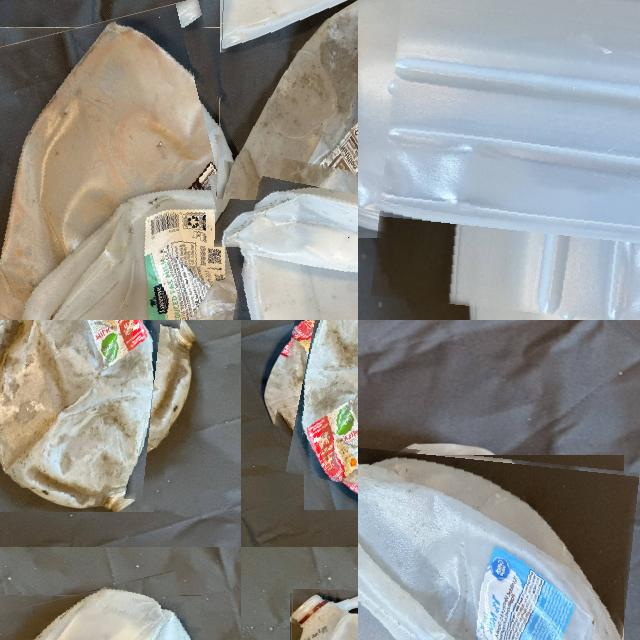milk-jug: (381, 0, 640, 320), (0, 11, 261, 320), (358, 440, 629, 640), (216, 0, 358, 251), (0, 196, 261, 320), (0, 320, 179, 496), (275, 320, 358, 498), (0, 581, 210, 640)
